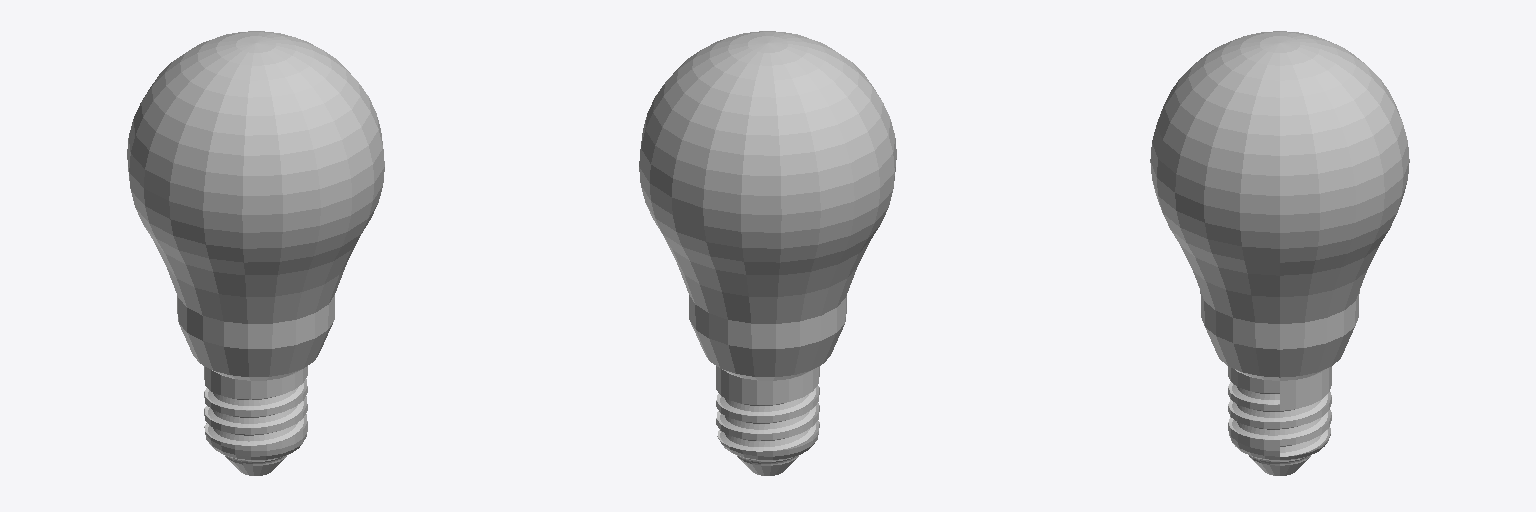
Rendered from lightbulb.obj.
3 views of the same model, side by side, from view 1: azimuth 30°, elevation 25°; view 2: azimuth 150°, elevation 25°; view 3: azimuth 270°, elevation 25° (orthographic).
Visible parts, largest first — view 1: Bulb, Base; view 2: Bulb, Base; view 3: Bulb, Base.
Part boxes in pixels (x1,y1,x2,y2): Bulb: (127,31,384,380); Base: (204,366,307,475); Bulb: (639,31,896,380); Base: (716,366,819,475); Bulb: (1150,31,1409,380); Base: (1228,367,1331,475).
Size of the model in its own units: 2 by 3.62 by 2.